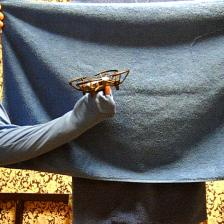drone: (70, 69, 129, 100)
